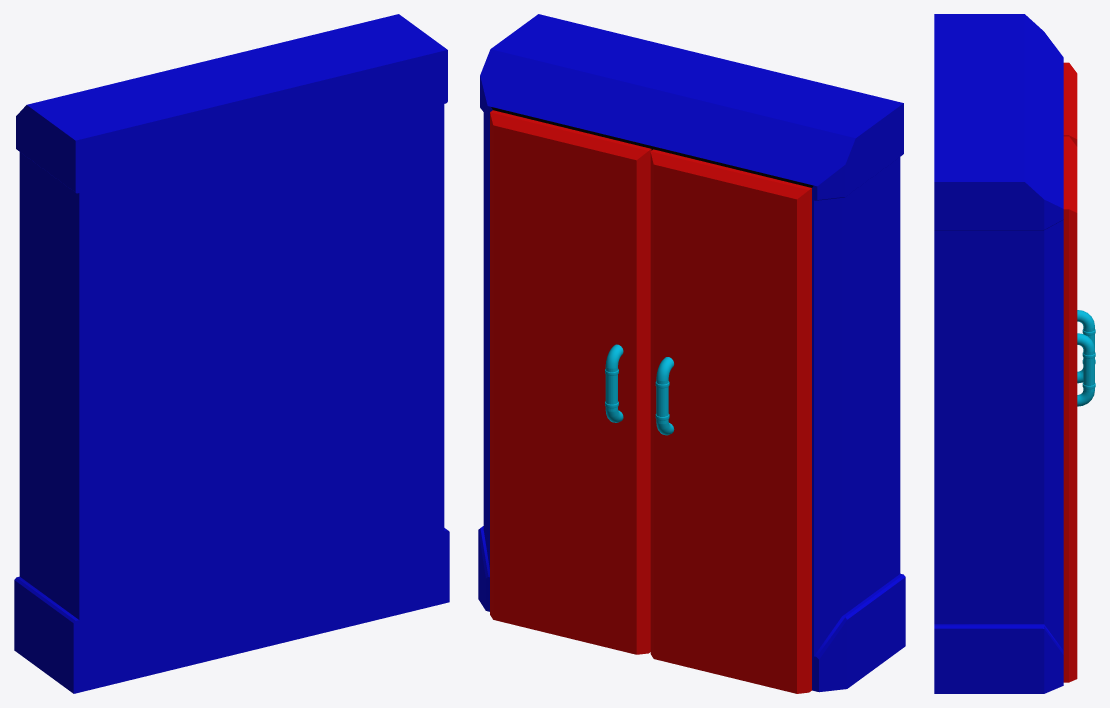
Rendered from SM_Armoire.fbx.
3 renders of one model, left to right at view 1: azimuth 30°, elevation 25°; view 2: azimuth 150°, elevation 25°; view 3: azimuth 270°, elevation 25°, orthographic. The views are drawn at different scales.
Parts seen in each view (by area): view 1: SM_Armoire; view 2: SM_Armoire; view 3: SM_Armoire.
Part boxes in pixels (bbox=[...]): SM_Armoire: bbox=[14, 14, 449, 693]; SM_Armoire: bbox=[478, 14, 905, 693]; SM_Armoire: bbox=[934, 14, 1095, 693].
Bounding box in the file's own units: 100 × 141 × 40.45.
